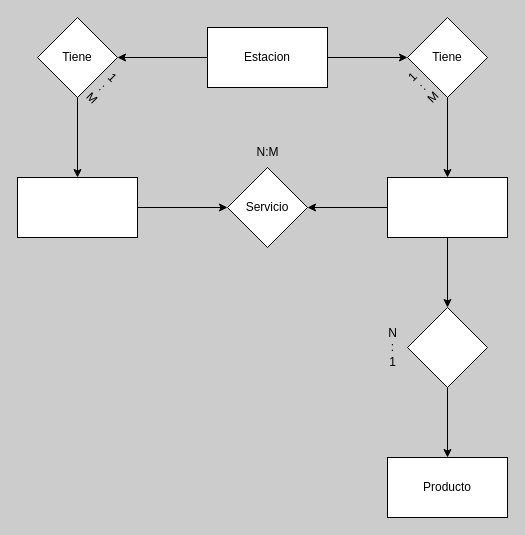
The diagram is 525 pixels wide and 535 high, and some of its shapes have lost their labels. The shapes that lost their labels are listed below. From the top down, each one's centre as x and y in pixels, then its label:
At pixel 77 207: "Surtidor".
At pixel 447 207: "Tanque".
At pixel 447 347: "Contiene".
